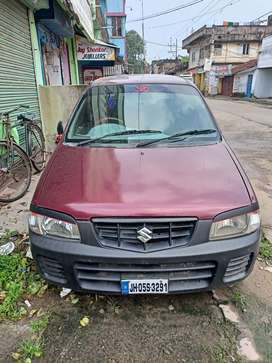JH05S3291: (121, 278, 169, 293)
